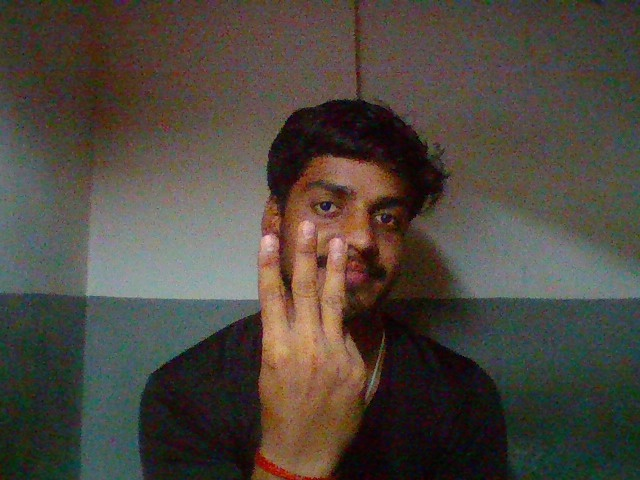W: (240, 210, 382, 462)
